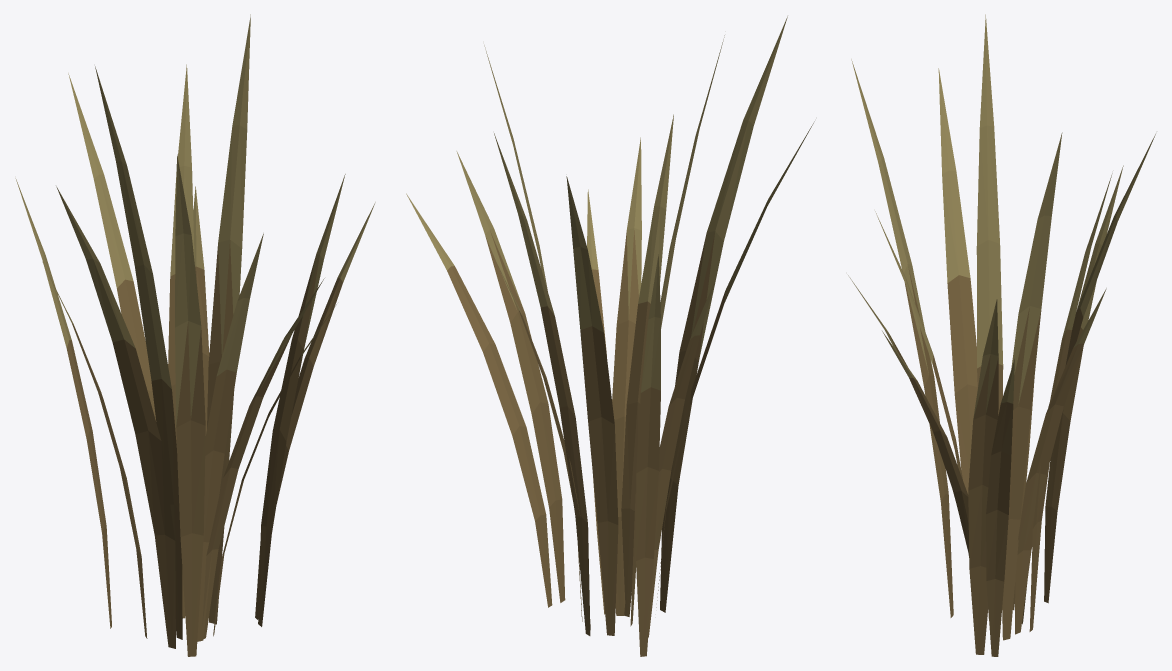
File: grass_tuft_e_autumn.glb
3 views of the same model, side by side, from view 1: azimuth 30°, elevation 25°; view 2: azimuth 150°, elevation 25°; view 3: azimuth 270°, elevation 25° (orthographic). The views are drawn at different scales.
Visible parts, largest first — view 1: geometry; view 2: geometry; view 3: geometry.
Part boxes in pixels (left/top/right/bottom): geometry: left=15, top=14, right=375, bottom=656; geometry: left=406, top=16, right=814, bottom=656; geometry: left=848, top=14, right=1155, bottom=656.
Size of the model in its own units: 0.284 by 0.45 by 0.2248.
